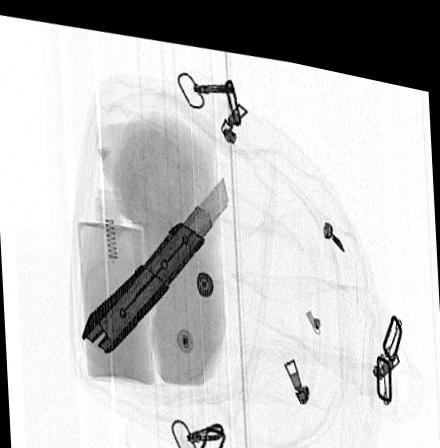Knife: (80, 166, 228, 351)
